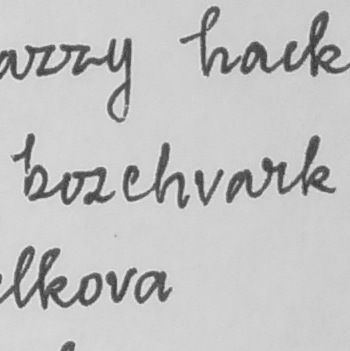a: (225, 164, 256, 207)
b: (20, 130, 51, 203)
c: (120, 162, 145, 204)
h: (151, 139, 189, 210)
k: (298, 132, 339, 199)
o: (56, 167, 86, 208)
r: (256, 154, 290, 200)
v: (191, 166, 225, 209)
z: (80, 163, 117, 207)
